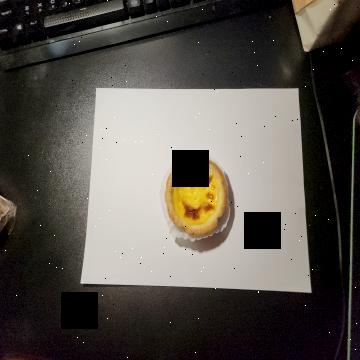EggTart: (166, 154, 228, 237)
